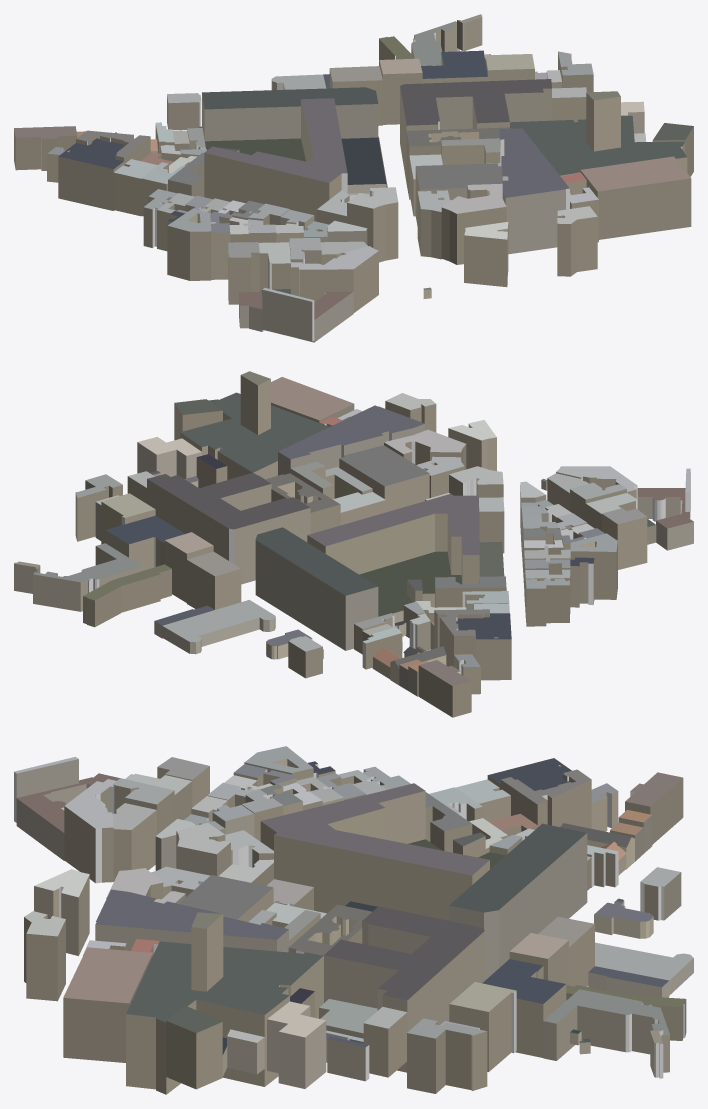
The picture shows the model from 3 angles, top to bottom: view 1: azimuth 30°, elevation 25°; view 2: azimuth 150°, elevation 25°; view 3: azimuth 270°, elevation 25°; orthographic projection. The views are drawn at different scales.
Visible parts, largest first — view 1: tuile; view 2: tuile; view 3: tuile.
Boxes of the visible parts, x1=… form: tuile: x1=14, y1=14, x2=693, y2=342; tuile: x1=14, y1=371, x2=693, y2=717; tuile: x1=14, y1=746, x2=693, y2=1094.
Size of the model in its own units: 275 by 60.08 by 266.
